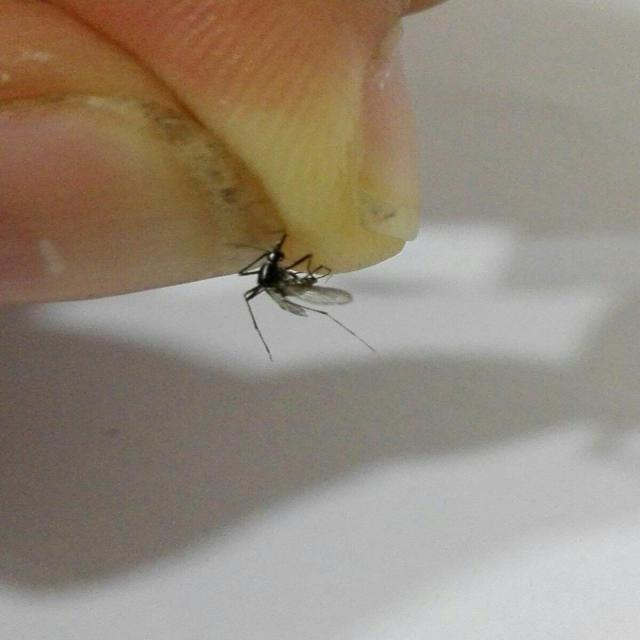albopictus: (213, 216, 391, 364)
